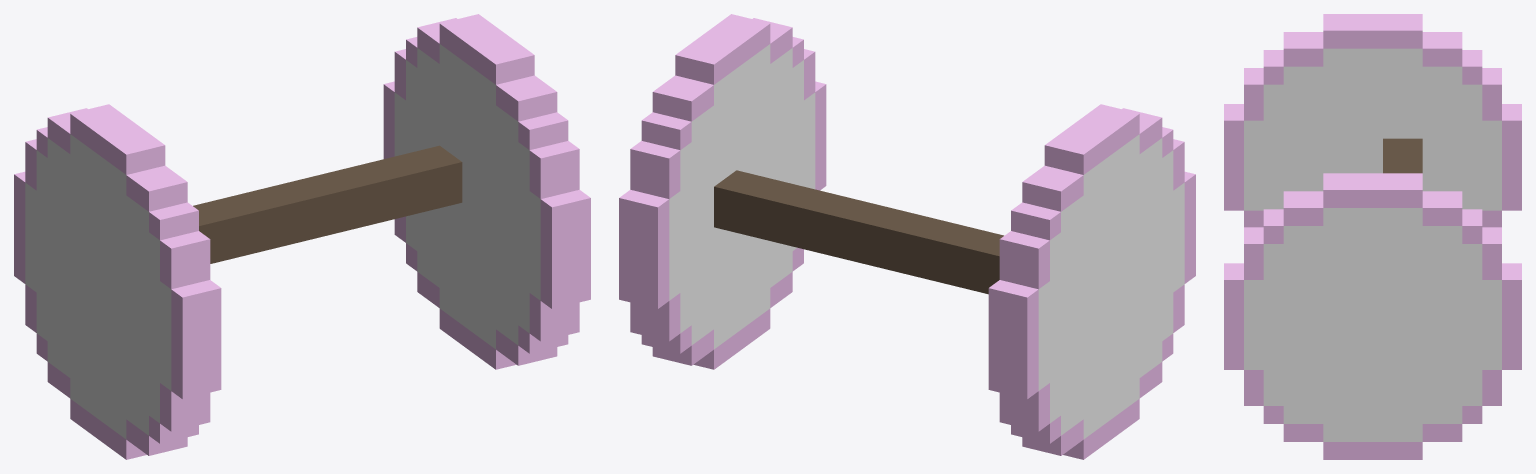
Rendered from Canon_wheel.obj.
3 renders of one model, left to right at view 1: azimuth 30°, elevation 25°; view 2: azimuth 150°, elevation 25°; view 3: azimuth 270°, elevation 25°, orthographic. The views are drawn at different scales.
Bounding box in the file's own units: 2.1 × 1.5 × 1.5.
